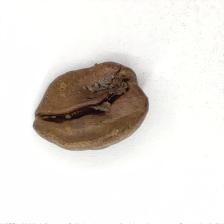NG: (35, 65, 140, 125)
